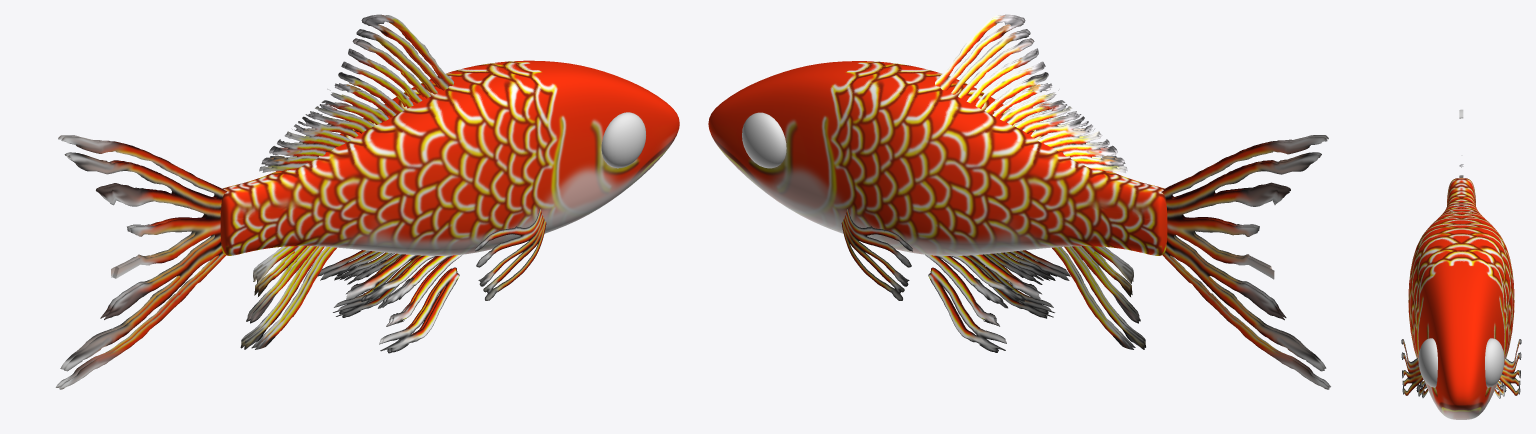
The model's file is CarpaAsiáticaDorada.fbx.
The picture shows the model from 3 angles, left to right: view 1: azimuth 30°, elevation 25°; view 2: azimuth 150°, elevation 25°; view 3: azimuth 270°, elevation 25°; orthographic projection. The views are drawn at different scales.
Parts seen in each view (by area): view 1: Body, Cola, Aleta, Aleta3, Aleta4, Aleta2, Ojos; view 2: Body, Cola, Aleta, Aleta3, Aleta4, Aleta2, Ojos; view 3: Body, Ojos, Aleta2, Aleta3.
Boxes of the visible parts, bbox=[...] form: Body: bbox=[220, 60, 679, 255]; Cola: bbox=[55, 135, 227, 389]; Aleta: bbox=[259, 14, 453, 172]; Aleta3: bbox=[318, 250, 462, 353]; Aleta4: bbox=[240, 246, 336, 349]; Aleta2: bbox=[475, 208, 546, 300]; Ojos: bbox=[601, 112, 645, 168]; Body: bbox=[708, 61, 1167, 255]; Cola: bbox=[1161, 135, 1330, 389]; Aleta: bbox=[935, 14, 1127, 173]; Aleta3: bbox=[925, 250, 1070, 352]; Aleta4: bbox=[1052, 246, 1145, 349]; Aleta2: bbox=[841, 208, 912, 300]; Ojos: bbox=[742, 112, 786, 168]; Body: bbox=[1408, 178, 1514, 419]; Ojos: bbox=[1418, 338, 1504, 387]; Aleta2: bbox=[1401, 339, 1521, 395]; Aleta3: bbox=[1416, 380, 1506, 398].
Size of the model in its own units: 859 by 418 by 158.
8 materials, 6 textured.
